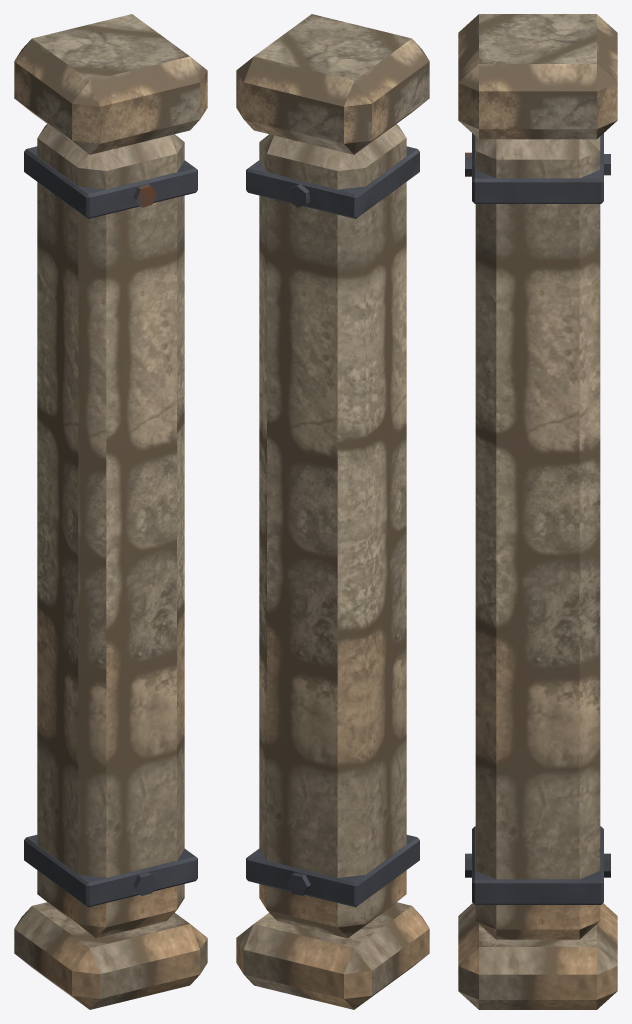
Rendered from sutun.glb.
3 renders of one model, left to right at view 1: azimuth 30°, elevation 25°; view 2: azimuth 150°, elevation 25°; view 3: azimuth 270°, elevation 25°, orthographic.
Parts seen in each view (by area): view 1: sutun; view 2: sutun; view 3: sutun.
Boxes of the visible parts, x1=… form: sutun: x1=14, y1=14, x2=207, y2=1009; sutun: x1=236, y1=14, x2=429, y2=1009; sutun: x1=458, y1=14, x2=617, y2=1009.
Bounding box in the file's own units: 0.46 × 3.01 × 0.46.
Materials: 1 (1 with a texture image).
